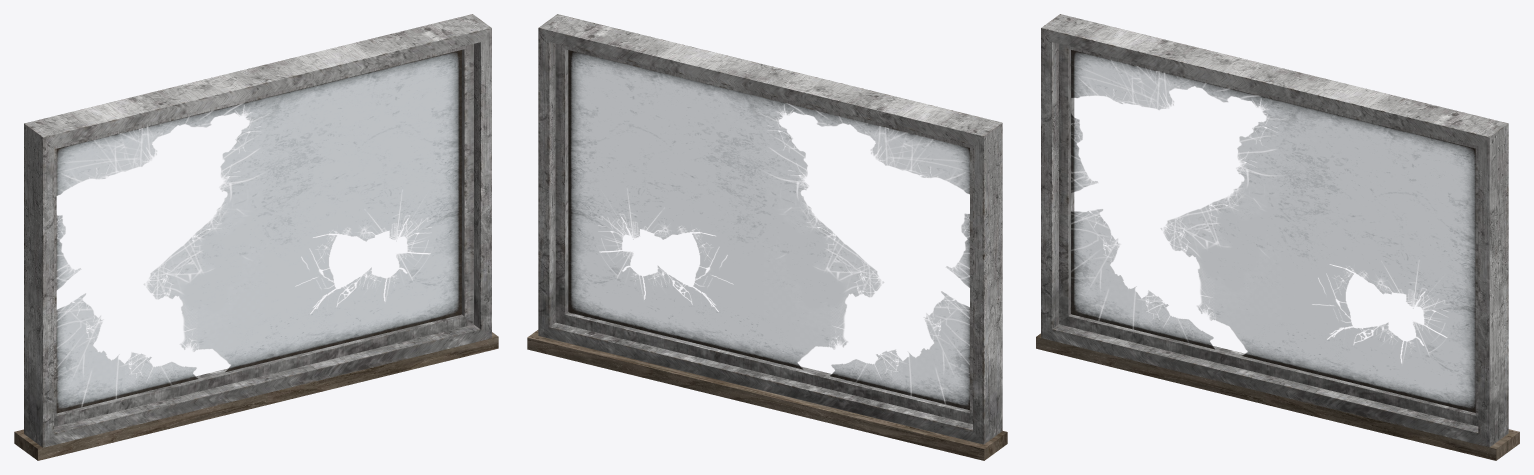
3 renders of one model, left to right at view 1: azimuth 30°, elevation 25°; view 2: azimuth 150°, elevation 25°; view 3: azimuth 330°, elevation 25°, orthographic.
Visible parts, largest first — view 1: Glass_001, Window_001, Frame_001; view 2: Glass_001, Window_001, Frame_001; view 3: Glass_001, Window_001, Frame_001.
Boxes of the visible parts, x1,y1,x2,y2 form: Glass_001: (56,50,461,413); Window_001: (24,14,491,447); Frame_001: (14,332,498,460); Glass_001: (568,50,969,410); Window_001: (538,14,1002,444); Frame_001: (527,330,1007,460); Glass_001: (1071,50,1475,412); Window_001: (1041,14,1508,447); Frame_001: (1036,333,1519,460).
Bounding box in the file's own units: 2 × 1.34 × 0.1779.
Materials: 2 (2 with a texture image).
